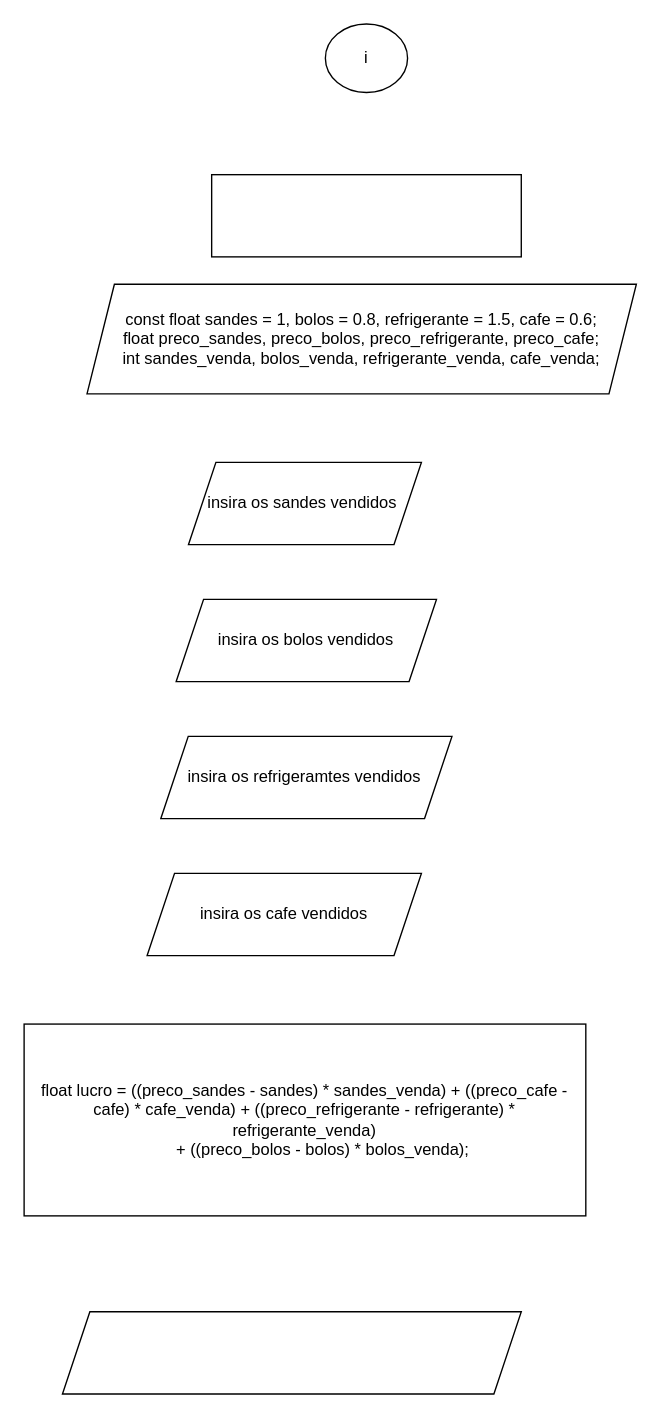
Image size: 660x1418. Some labels were removed from this diagram. Each missing label, with the centre of its shape:
int sandes, bolos, refrigerantes, café: pixel 365 215
std::cout << "Teve um lucro de: " << lucro; std::wcout << " euros";: pixel 291 1352
